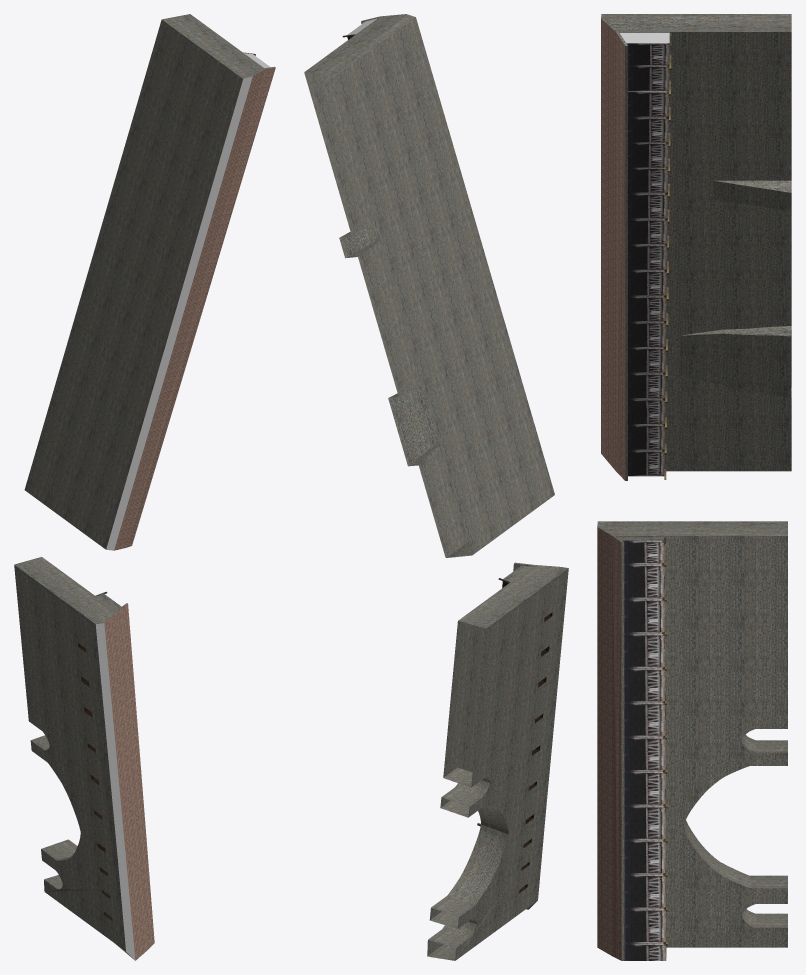
File: myyr.obj
The picture shows the model from 3 angles, left to right: view 1: azimuth 30°, elevation 25°; view 2: azimuth 150°, elevation 25°; view 3: azimuth 270°, elevation 25°; orthographic projection. The views are drawn at different scales.
Visible parts, largest first — view 1: Suur_Kloostri_myyr; view 2: Suur_Kloostri_myyr; view 3: Suur_Kloostri_myyr.
Part boxes in pixels (box(x1,y1,x2,y2)): Suur_Kloostri_myyr: box(14, 14, 275, 960); Suur_Kloostri_myyr: box(304, 14, 568, 960); Suur_Kloostri_myyr: box(597, 14, 791, 960).
Size of the model in its own units: 16.9 by 71.88 by 12.7.
